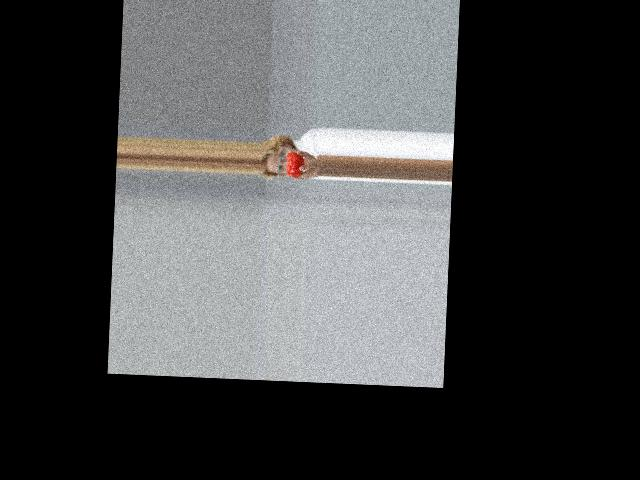tomato: (286, 151, 304, 177)
